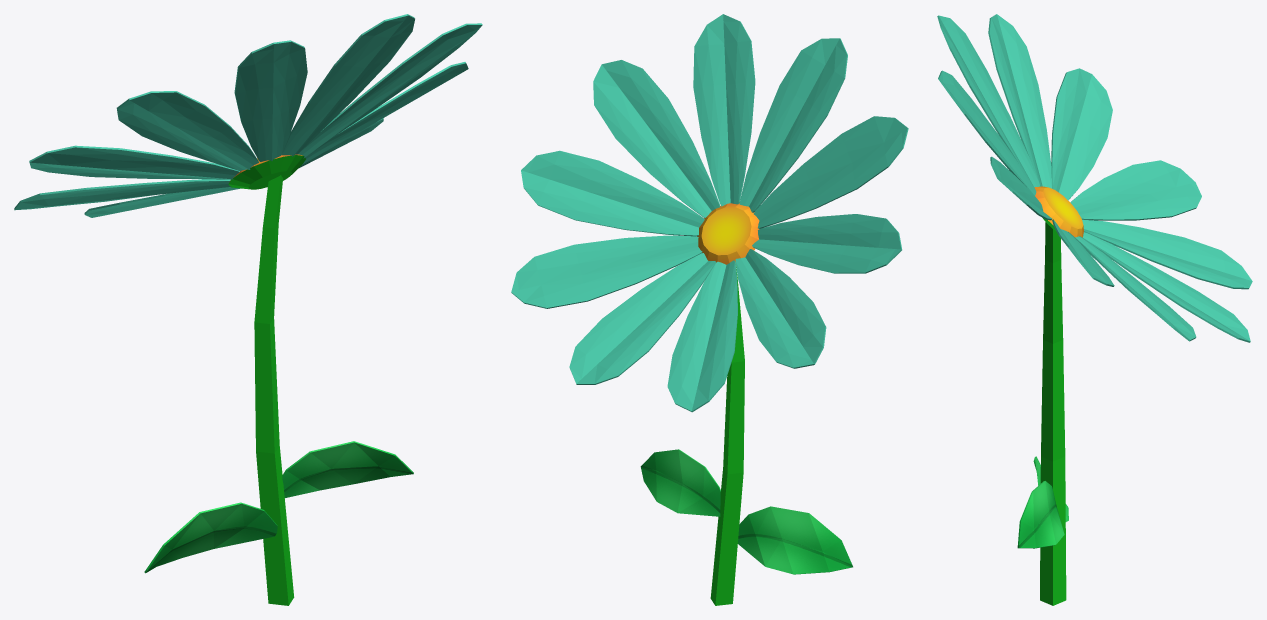
Rendered from flower4.obj.
3 renders of one model, left to right at view 1: azimuth 30°, elevation 25°; view 2: azimuth 150°, elevation 25°; view 3: azimuth 270°, elevation 25°, orthographic. The views are drawn at different scales.
Parts seen in each view (by area): view 1: flower4.002_Circle.055; view 2: flower4.002_Circle.055; view 3: flower4.002_Circle.055.
Part boxes in pixels (box(x1,y1,x2,y2)): flower4.002_Circle.055: box(14, 14, 482, 605); flower4.002_Circle.055: box(511, 14, 908, 605); flower4.002_Circle.055: box(937, 14, 1252, 605).
Size of the model in its own units: 1.09 by 1.47 by 0.7584.
